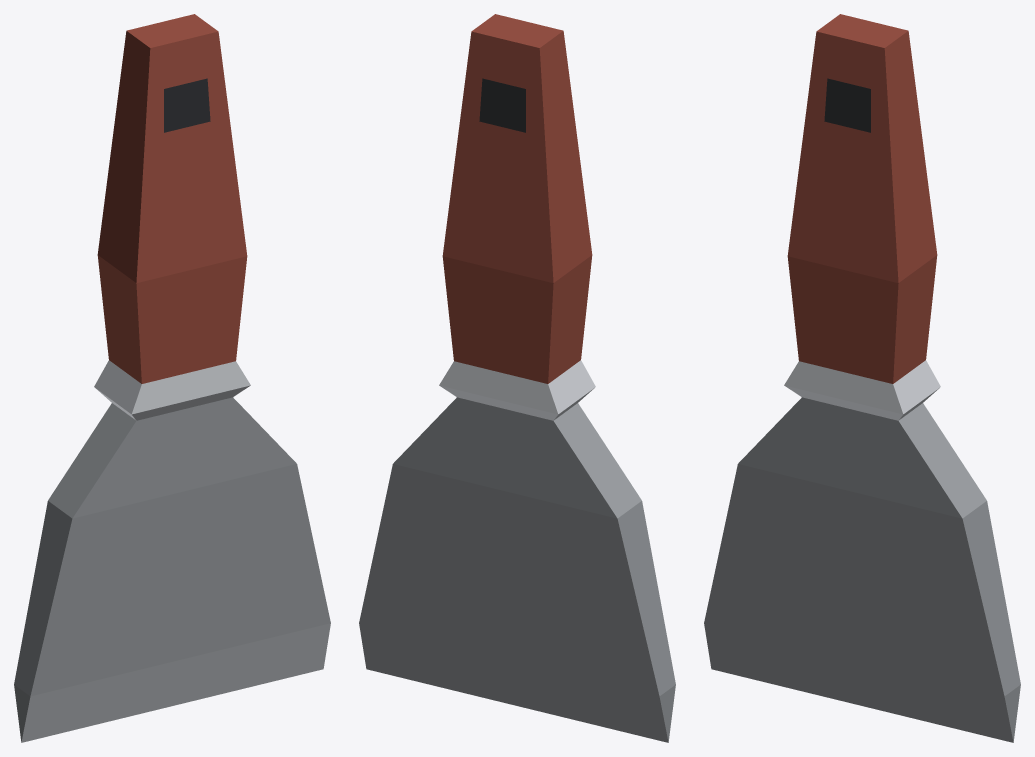
Rendered from SM_Item_Scrapper_01.fbx.
The picture shows the model from 3 angles, left to right: view 1: azimuth 30°, elevation 25°; view 2: azimuth 150°, elevation 25°; view 3: azimuth 330°, elevation 25°; orthographic projection.
Visible parts, largest first — view 1: SM_Item_Scrapper_01; view 2: SM_Item_Scrapper_01; view 3: SM_Item_Scrapper_01.
Boxes of the visible parts, bbox=[...] form: SM_Item_Scrapper_01: bbox=[14, 14, 330, 742]; SM_Item_Scrapper_01: bbox=[359, 14, 675, 742]; SM_Item_Scrapper_01: bbox=[704, 14, 1020, 742].
Size of the model in its own units: 13.76 by 29.36 by 3.06.
